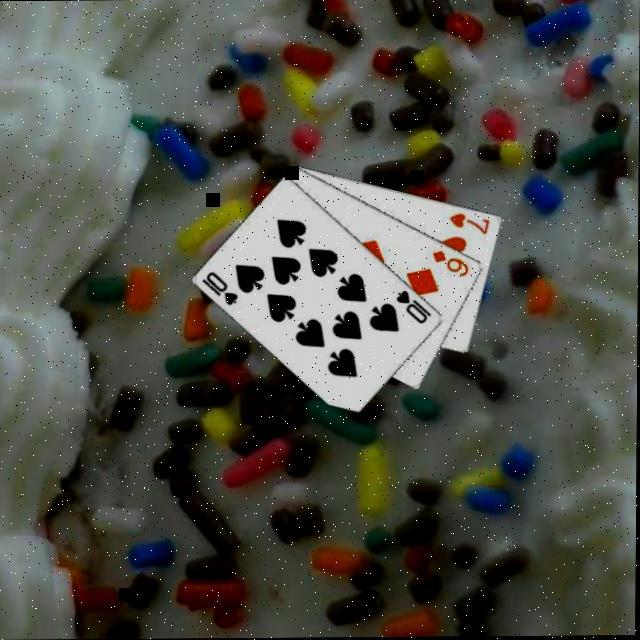10S: (202, 266, 244, 306), (396, 286, 437, 325)
6D: (432, 246, 474, 278)
7H: (449, 208, 496, 236)
